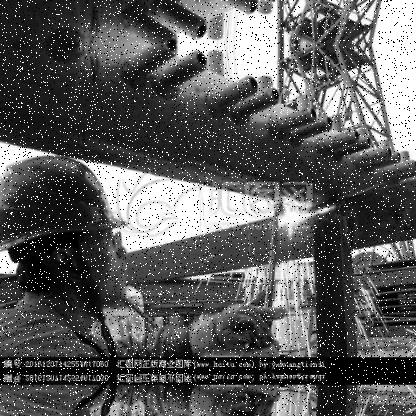Helmet: (0, 156, 151, 324)
